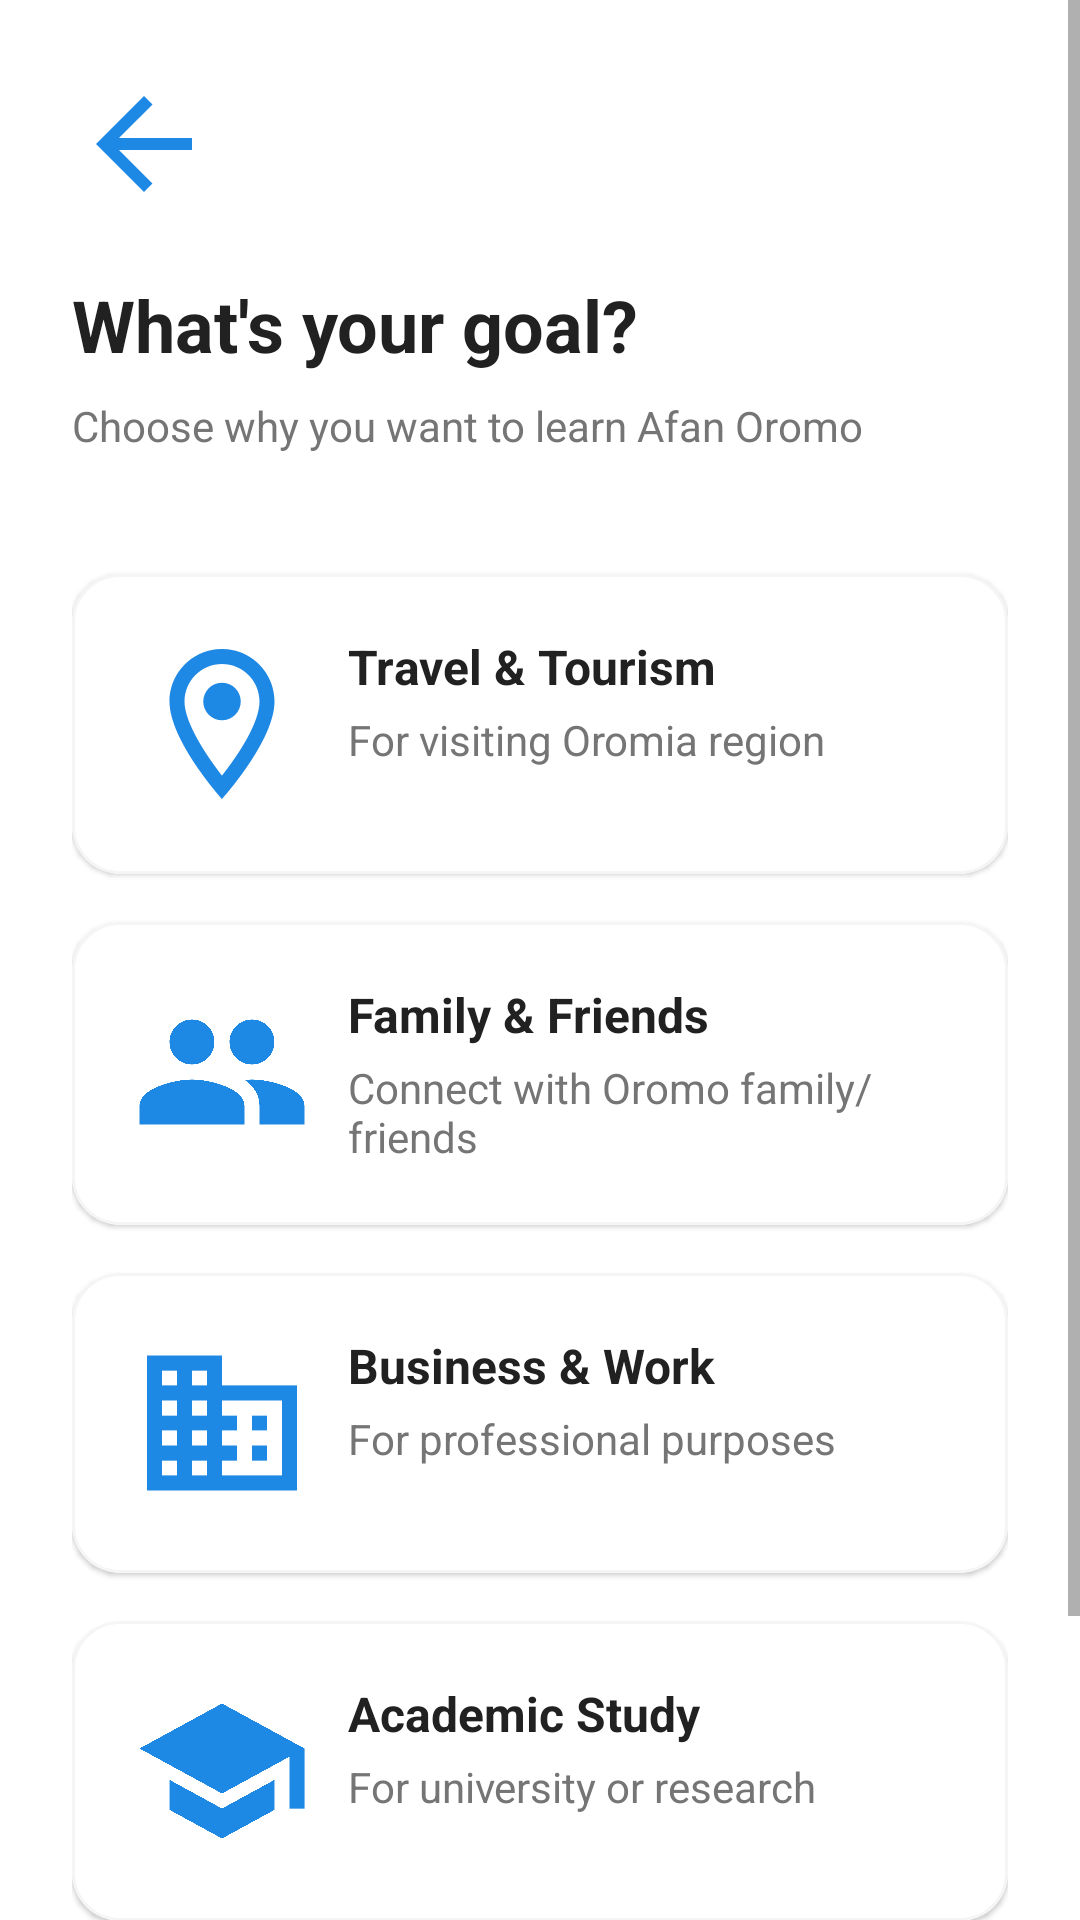

Icons on this 1080×1920 Android screen, each with its box as box(x1, y1, x2, y2):
Back: box(96, 96, 192, 192)
